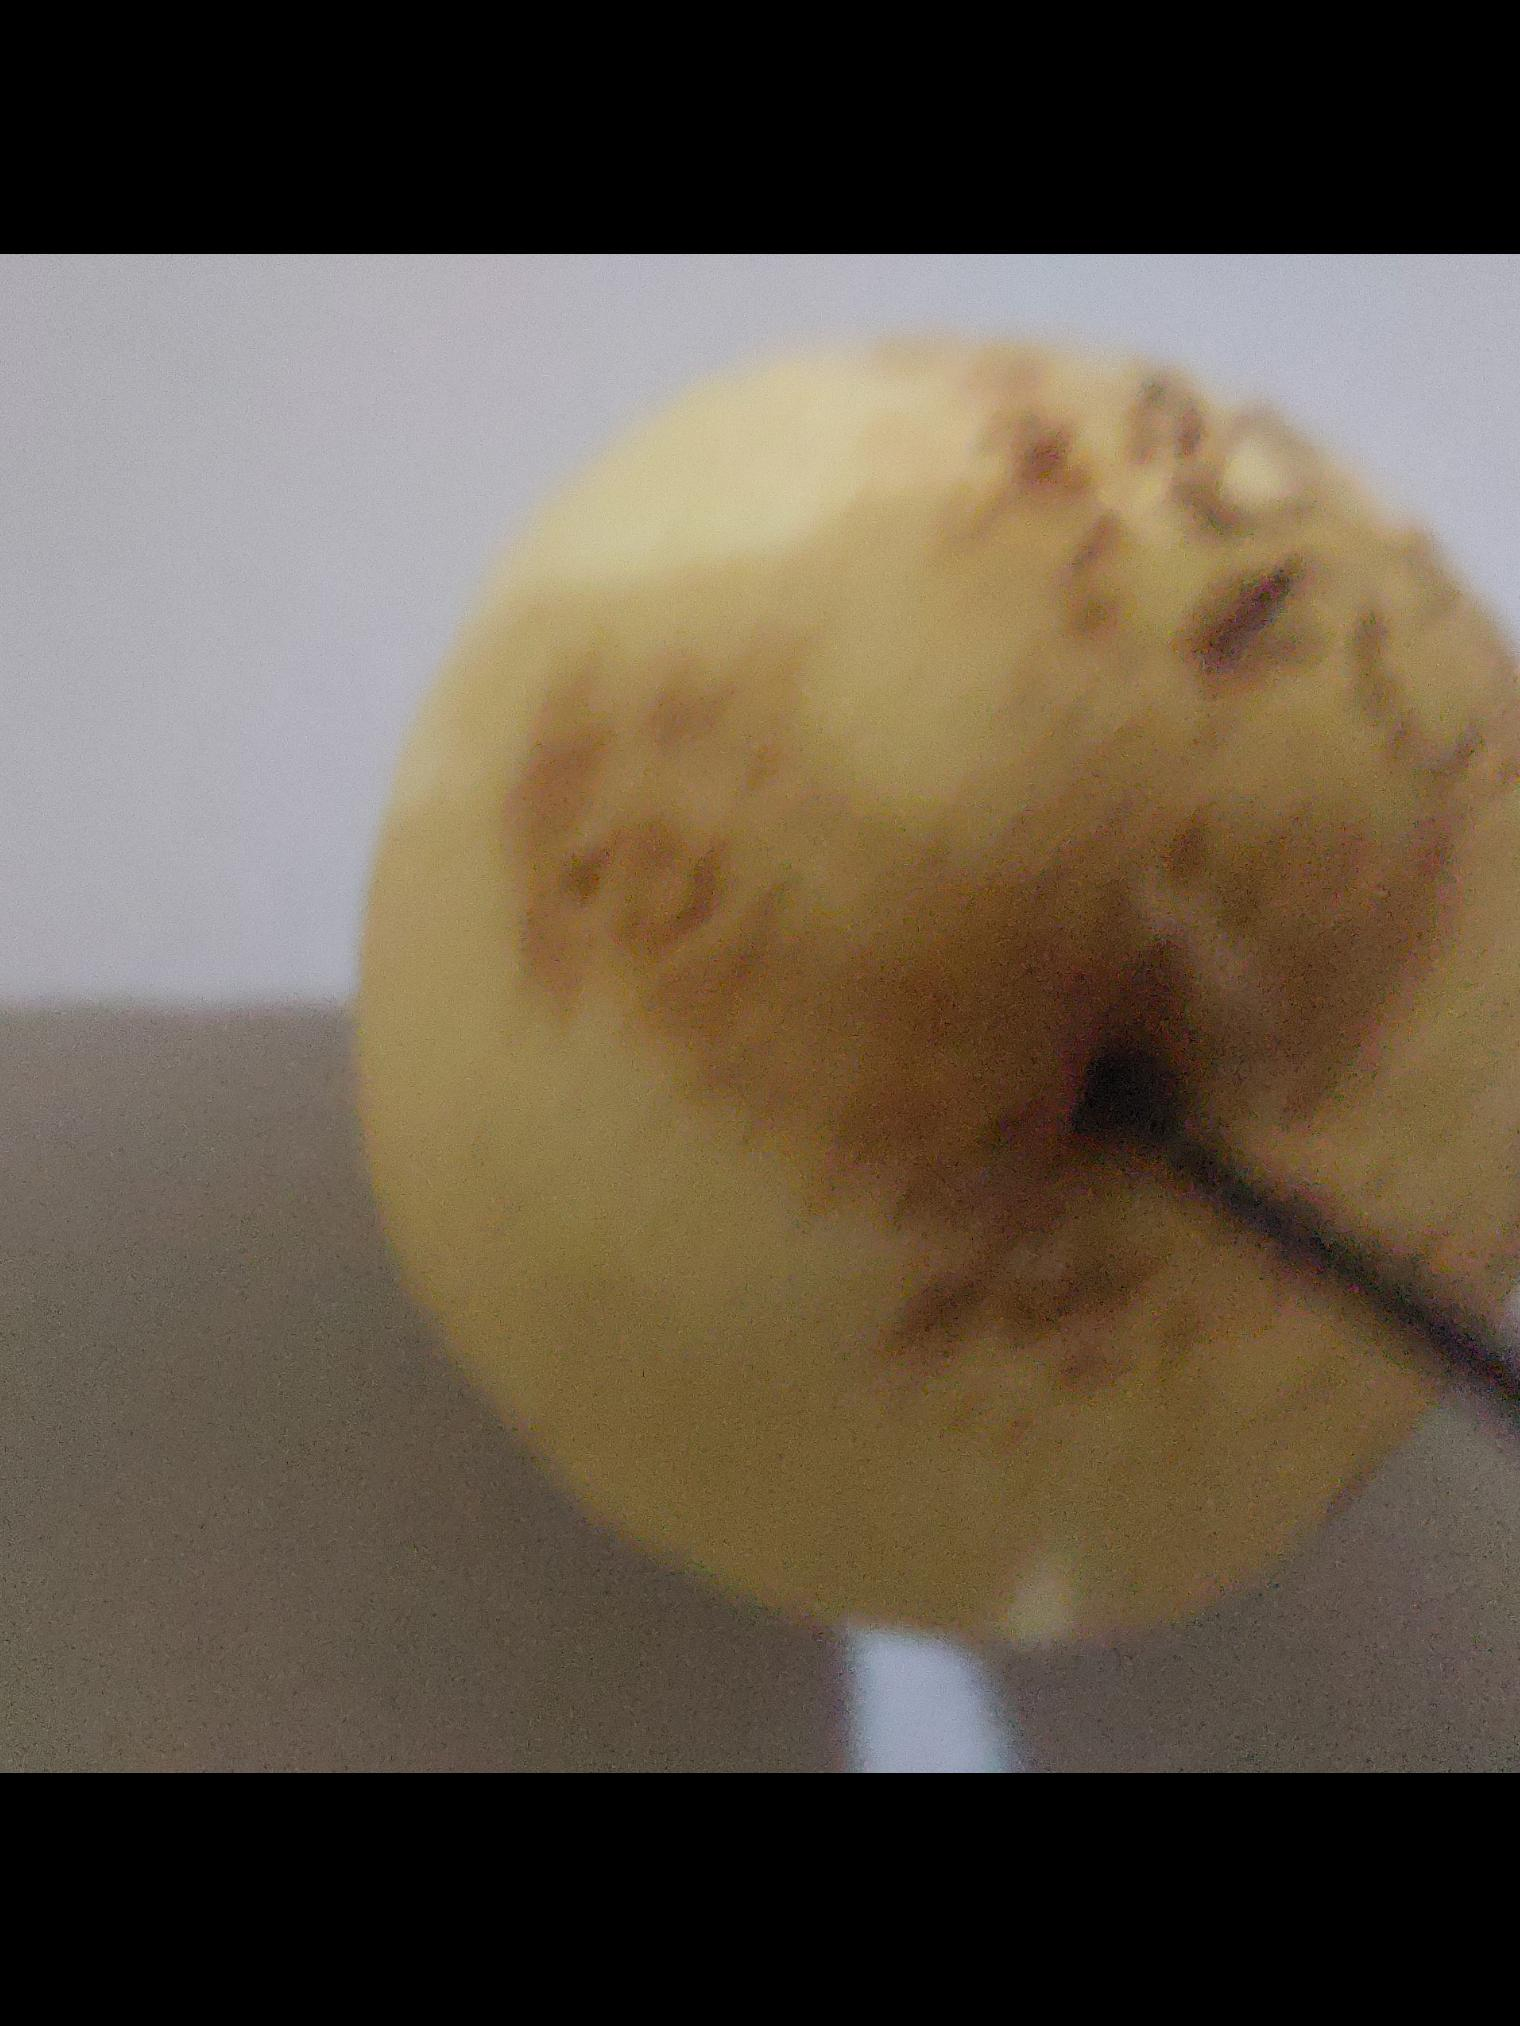Bad Pear: (335, 366, 1520, 1638)
